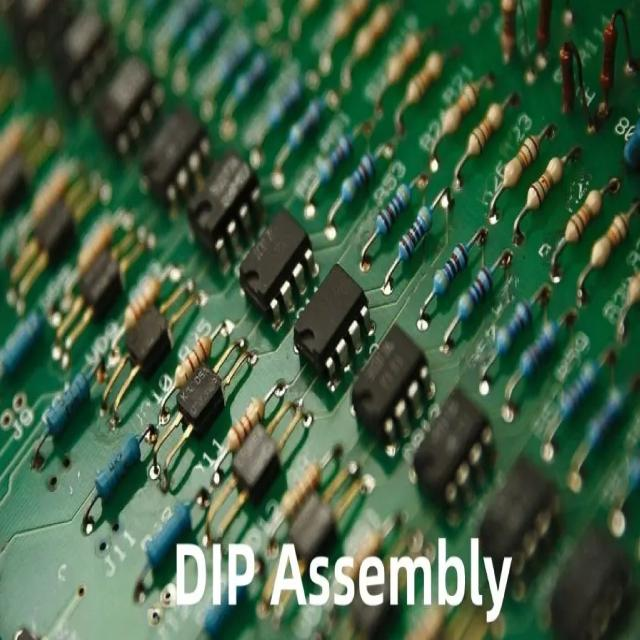IC: (240, 205, 316, 319), (362, 323, 430, 449), (296, 269, 370, 382), (195, 152, 259, 262)
resistor: (99, 434, 145, 515), (146, 504, 186, 587), (494, 124, 540, 192), (43, 374, 89, 439), (373, 170, 410, 243), (169, 324, 209, 384), (431, 242, 468, 305), (454, 268, 492, 329), (396, 208, 431, 274), (560, 182, 598, 242), (529, 156, 564, 218), (469, 108, 504, 169), (228, 399, 264, 455), (442, 79, 476, 138), (492, 302, 530, 352)
